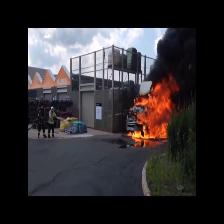fire: (133, 88, 169, 141)
smoke: (154, 28, 196, 84)
